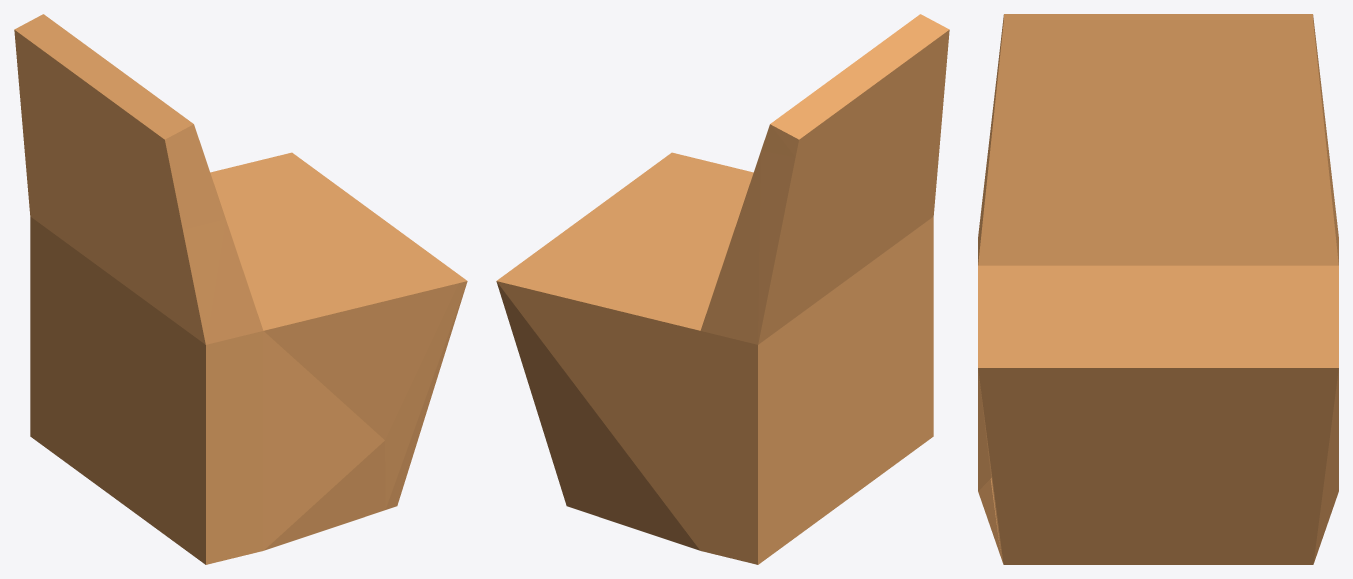
The model's file is chair_bulk_broken.fbx.
3 renders of one model, left to right at view 1: azimuth 30°, elevation 25°; view 2: azimuth 150°, elevation 25°; view 3: azimuth 270°, elevation 25°, orthographic. The views are drawn at different scales.
Visible parts, largest first — view 1: chair_bulk_broken_Part_2, chair_bulk_broken_Part_1, chair_bulk_broken_Part_5, chair_bulk_broken_Part_3, chair_bulk_broken_Part_4; view 2: chair_bulk_broken_Part_5, chair_bulk_broken_Part_3, chair_bulk_broken_Part_1, chair_bulk_broken_Part_4, chair_bulk_broken_Part_2; view 3: chair_bulk_broken_Part_5, chair_bulk_broken_Part_3, chair_bulk_broken_Part_4, chair_bulk_broken_Part_2, chair_bulk_broken_Part_1.
Part boxes in pixels (<box>): chair_bulk_broken_Part_2: <box>128,219,458,502</box>; chair_bulk_broken_Part_1: <box>30,310,385,564</box>; chair_bulk_broken_Part_5: <box>30,152,467,509</box>; chair_bulk_broken_Part_3: <box>15,46,241,314</box>; chair_bulk_broken_Part_4: <box>14,14,225,229</box>; chair_bulk_broken_Part_5: <box>496,152,765,561</box>; chair_bulk_broken_Part_3: <box>682,151,910,429</box>; chair_bulk_broken_Part_1: <box>747,300,933,564</box>; chair_bulk_broken_Part_4: <box>761,14,949,157</box>; chair_bulk_broken_Part_2: <box>681,112,942,373</box>; chair_bulk_broken_Part_5: <box>978,275,1338,564</box>; chair_bulk_broken_Part_3: <box>1057,35,1338,291</box>; chair_bulk_broken_Part_4: <box>992,14,1316,159</box>; chair_bulk_broken_Part_2: <box>978,113,1126,478</box>; chair_bulk_broken_Part_1: <box>978,427,1001,557</box>.
Bounding box in the file's own units: 75.08 × 107 × 78.66.
Materials: 1 (1 with a texture image).
